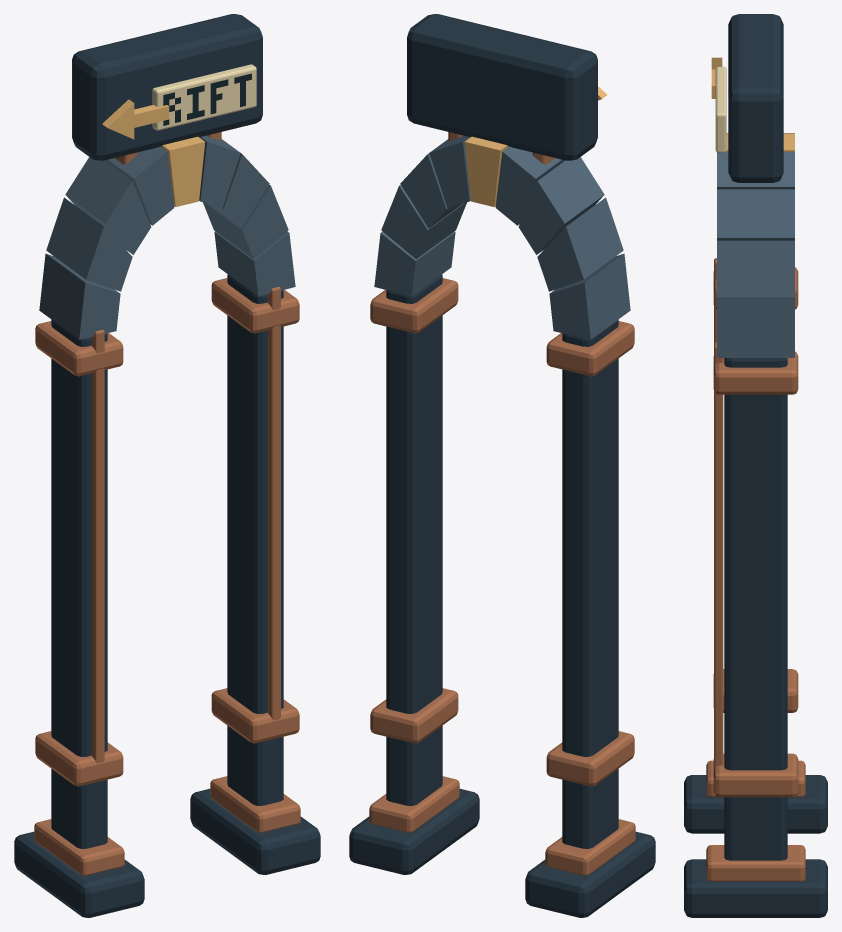
The picture shows the model from 3 angles, left to right: view 1: azimuth 30°, elevation 25°; view 2: azimuth 150°, elevation 25°; view 3: azimuth 270°, elevation 25°; orthographic projection.
Parts seen in each view (by area): view 1: PR119 enamel and hardware; view 2: PR119 enamel and hardware; view 3: PR119 enamel and hardware.
Boxes of the visible parts, x1=… form: PR119 enamel and hardware: x1=14, y1=14, x2=320, y2=917; PR119 enamel and hardware: x1=349, y1=14, x2=655, y2=917; PR119 enamel and hardware: x1=684, y1=14, x2=827, y2=917.
Size of the model in its own units: 0.65 by 2.15 by 0.3442.
